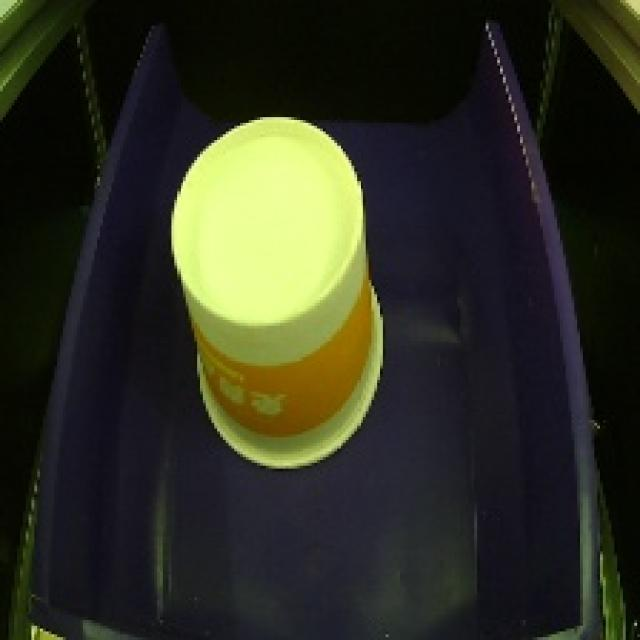cups: (158, 104, 395, 479)
